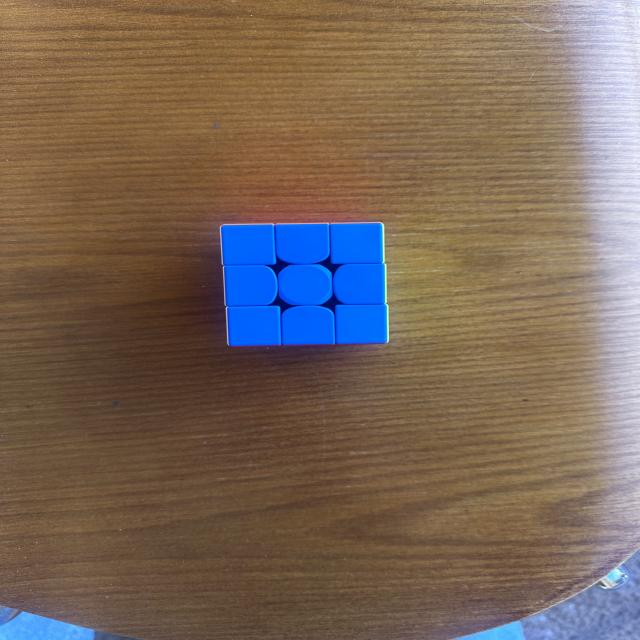sticker: (219, 222, 279, 268), (276, 262, 336, 308), (327, 221, 386, 267), (272, 222, 332, 266), (223, 263, 280, 309), (278, 303, 337, 347), (333, 302, 390, 347), (226, 305, 284, 349), (332, 263, 388, 307)
